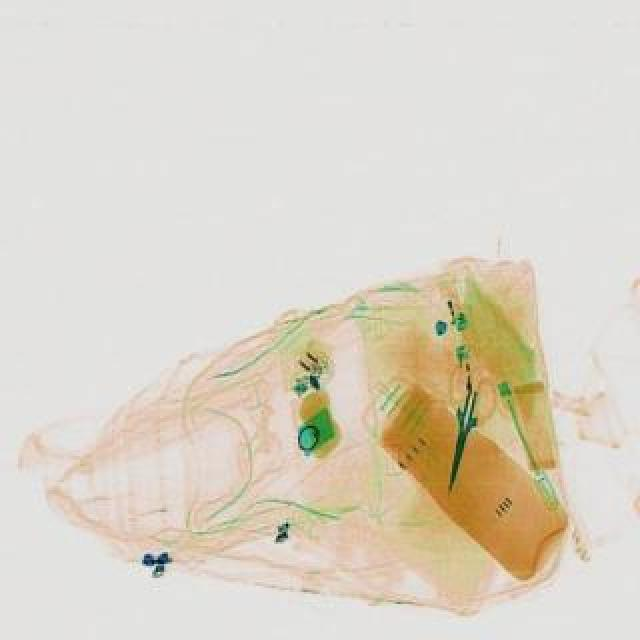knife: (436, 386, 484, 496)
